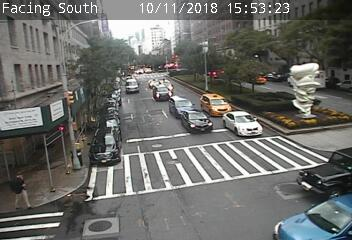car: (223, 111, 263, 137), (181, 110, 213, 134), (200, 93, 231, 117), (169, 96, 196, 119), (153, 85, 172, 101), (156, 80, 173, 93), (126, 79, 139, 93)
